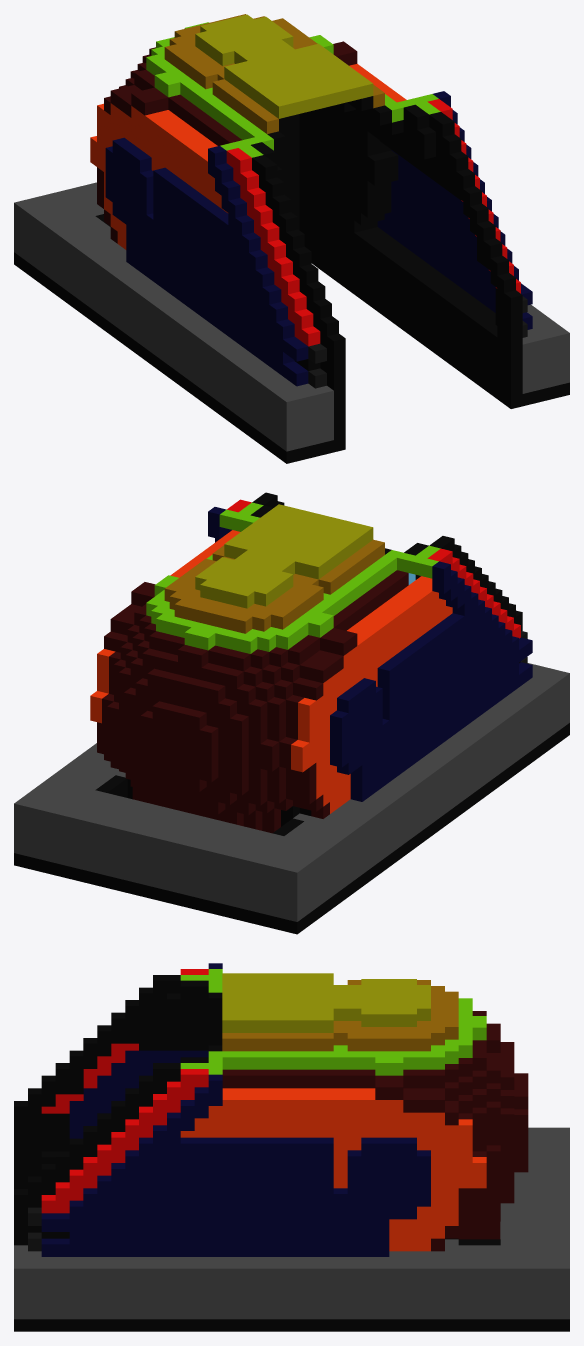
File: EnemyCastle.obj
3 renders of one model, top to bottom at view 1: azimuth 30°, elevation 25°; view 2: azimuth 150°, elevation 25°; view 3: azimuth 270°, elevation 25°, orthographic.
Size of the model in its own units: 24 by 21 by 40.
Materials: 1 (1 with a texture image).
